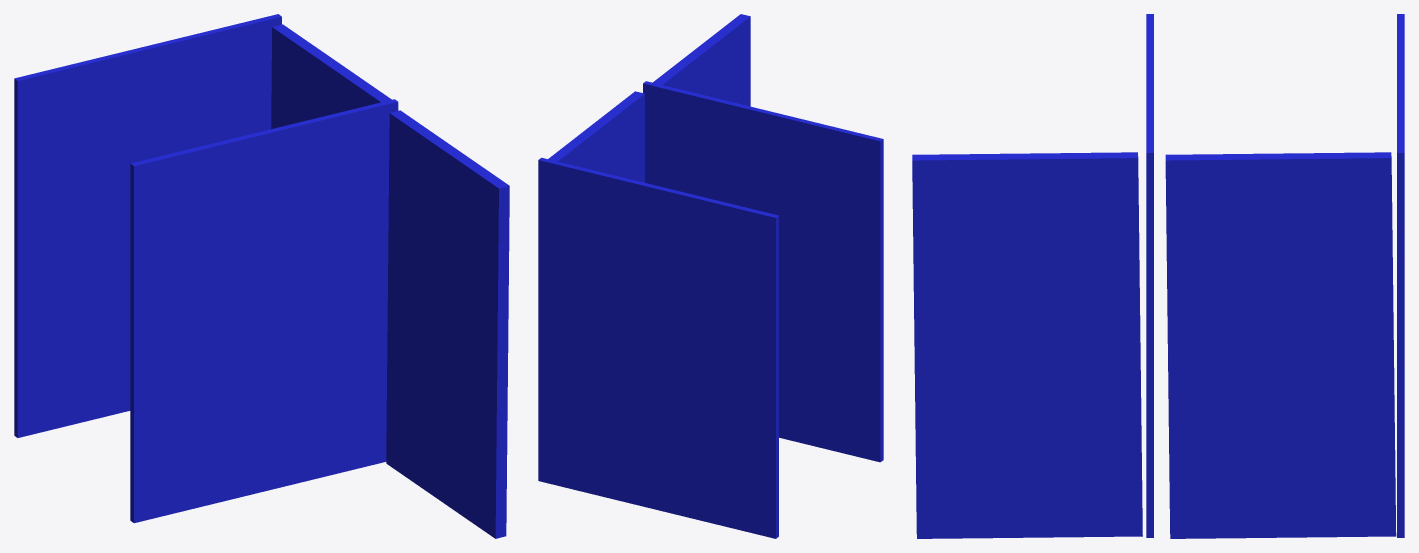
The model's file is Główny_projekt_sufitów.fbx_Do_toalety.fbx.
The picture shows the model from 3 angles, left to right: view 1: azimuth 30°, elevation 25°; view 2: azimuth 150°, elevation 25°; view 3: azimuth 270°, elevation 25°; orthographic projection. The views are drawn at different scales.
Parts seen in each view (by area): view 1: ściana_kabiny, ściana_kabiny.001, Drzwi_od_kabiny, Drzwi_od_kabiny.001; view 2: ściana_kabiny.001, ściana_kabiny, Drzwi_od_kabiny, Drzwi_od_kabiny.001; view 3: Drzwi_od_kabiny, Drzwi_od_kabiny.001, ściana_kabiny, ściana_kabiny.001.
Boxes of the visible parts, x1,y1,x2,y2 form: ściana_kabiny: (130, 99, 398, 523); ściana_kabiny.001: (14, 14, 281, 437); Drzwi_od_kabiny: (386, 110, 509, 538); Drzwi_od_kabiny.001: (271, 24, 391, 129); ściana_kabiny.001: (538, 157, 778, 538); ściana_kabiny: (643, 81, 883, 462); Drzwi_od_kabiny: (653, 14, 750, 106); Drzwi_od_kabiny.001: (548, 91, 644, 182); Drzwi_od_kabiny: (912, 152, 1142, 538); Drzwi_od_kabiny.001: (1165, 152, 1396, 538); ściana_kabiny: (1146, 14, 1153, 537); ściana_kabiny.001: (1397, 14, 1404, 537).
Size of the model in its own units: 607 by 775 by 899.
